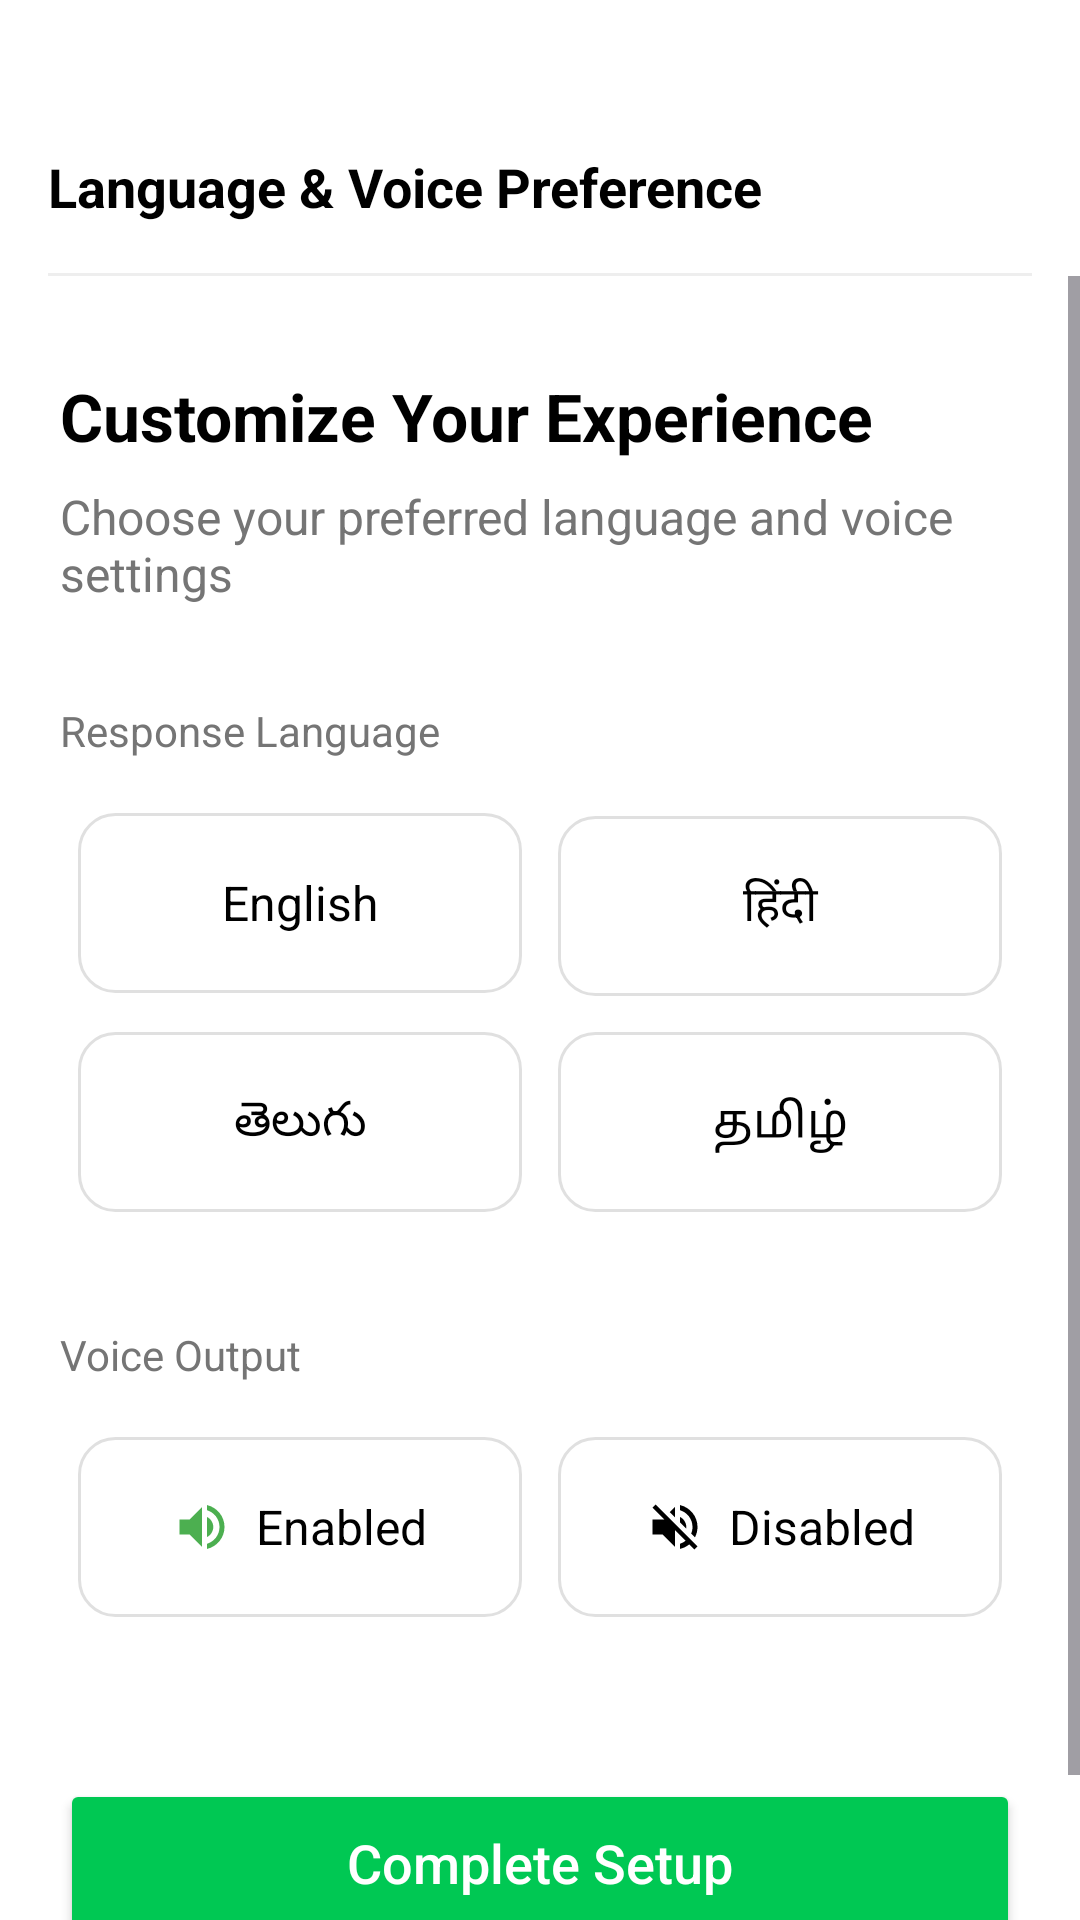

Icon bounding boxes for this 1080px x 1920px phone screenshot, format rect(x1, y1, x2, y2):
volume off: rect(652, 1504, 698, 1550)
volume up: rect(179, 1505, 225, 1549)
